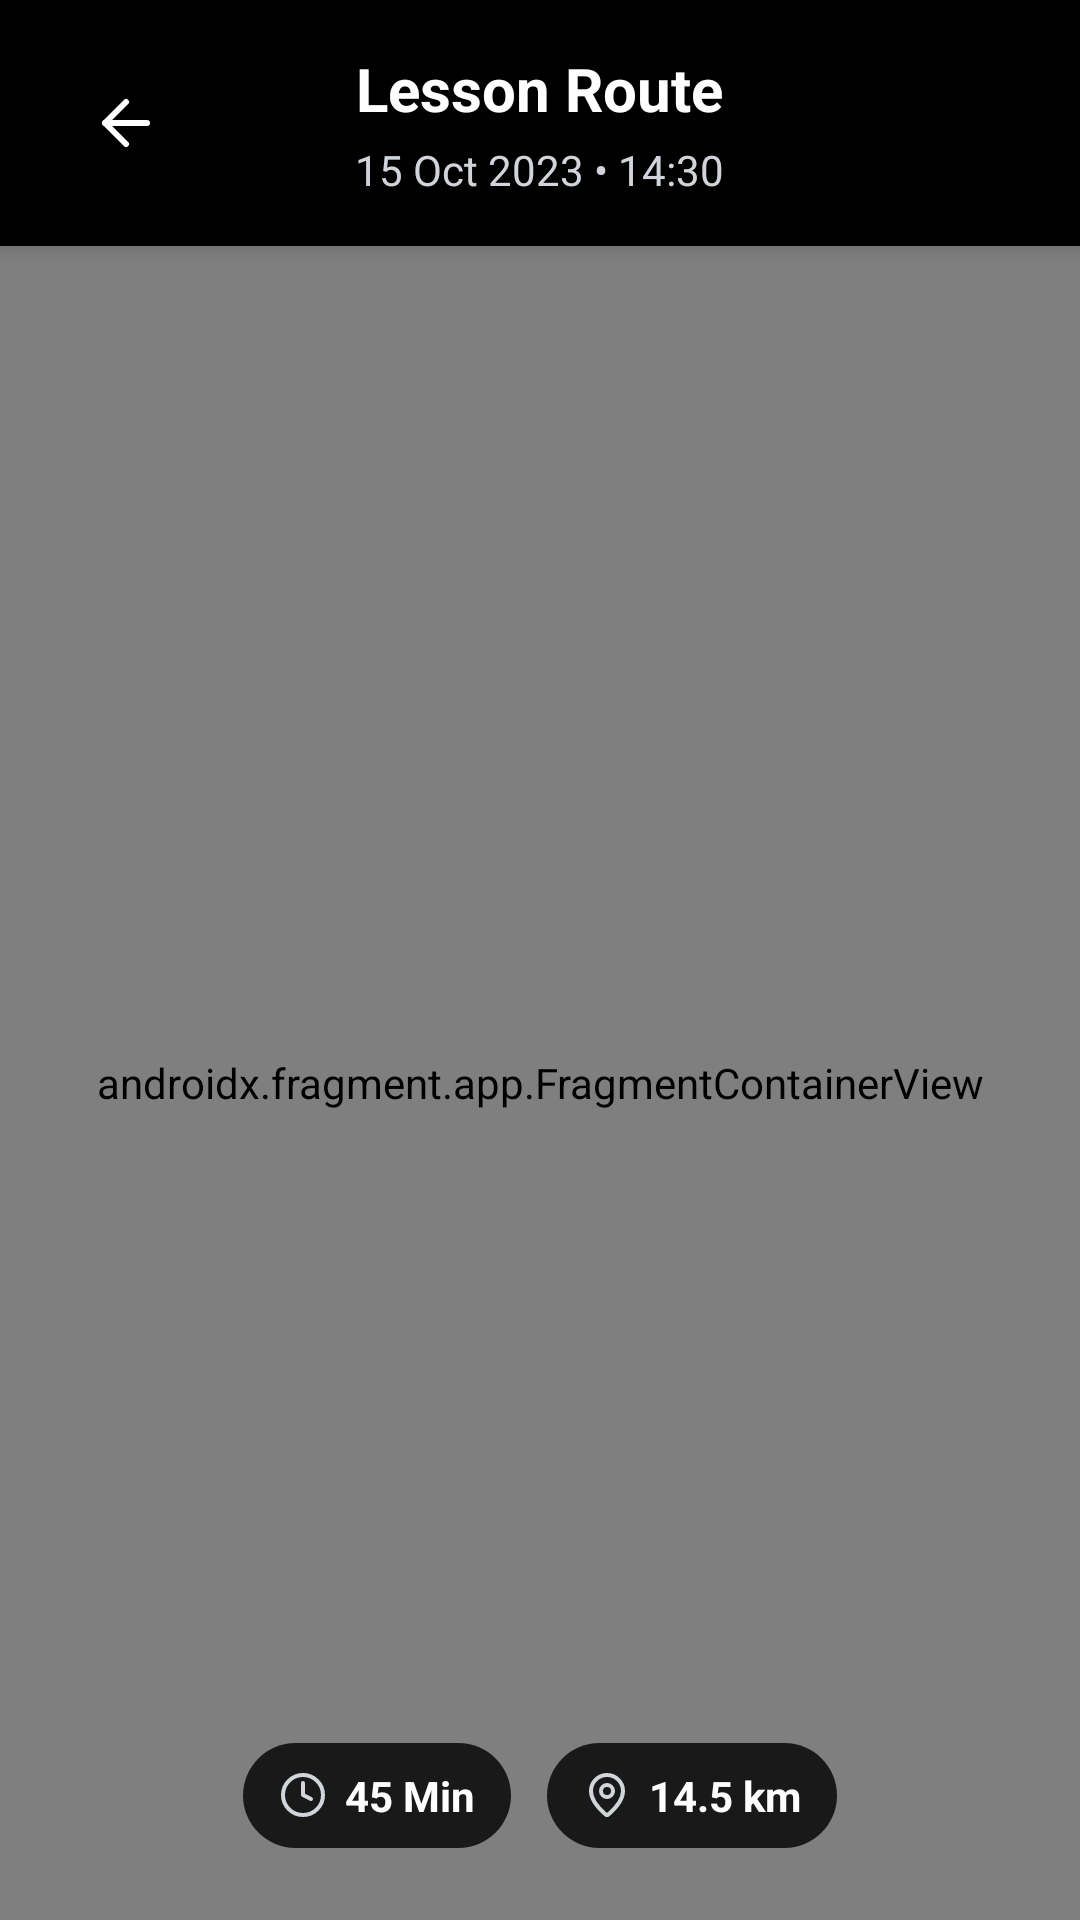

Screen size 1080px×1920px. Icon name, then its box in pixels as (x1, y1, x2, y2):
Back: (102, 99, 150, 147)
clock: (281, 1773, 325, 1817)
map pin: (589, 1773, 625, 1817)
